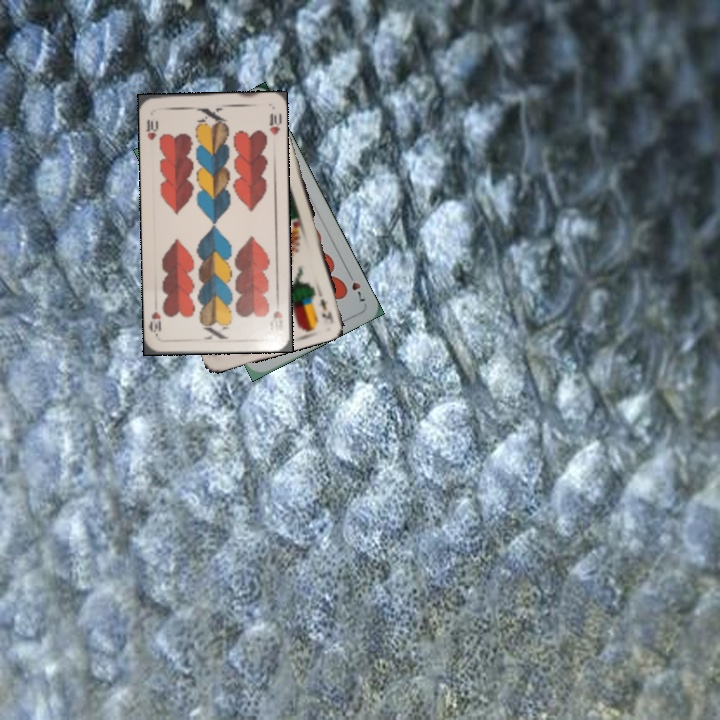EK: (315, 295, 336, 323)
H10: (267, 295, 287, 335), (142, 115, 160, 143)
H7: (343, 268, 368, 304)
